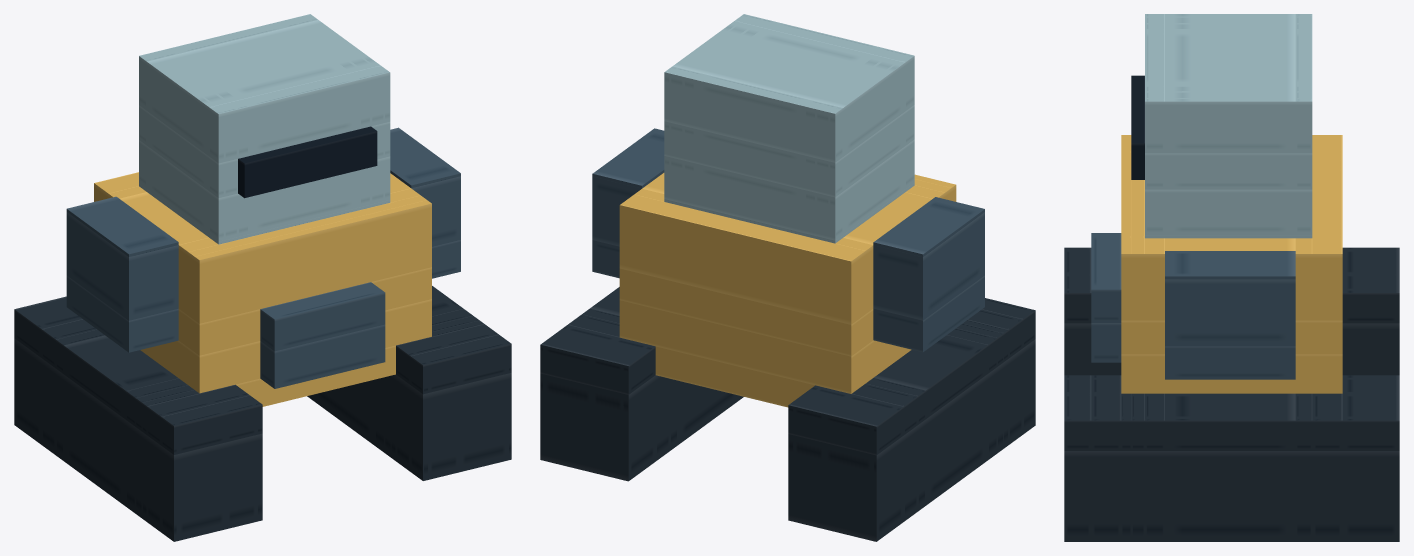
Rendered from sc_robot_loader.obj.
3 renders of one model, left to right at view 1: azimuth 30°, elevation 25°; view 2: azimuth 150°, elevation 25°; view 3: azimuth 270°, elevation 25°, orthographic. The views are drawn at different scales.
Bounding box in the file's own units: 12.2 × 13.1 × 10.
Materials: 1 (1 with a texture image).
